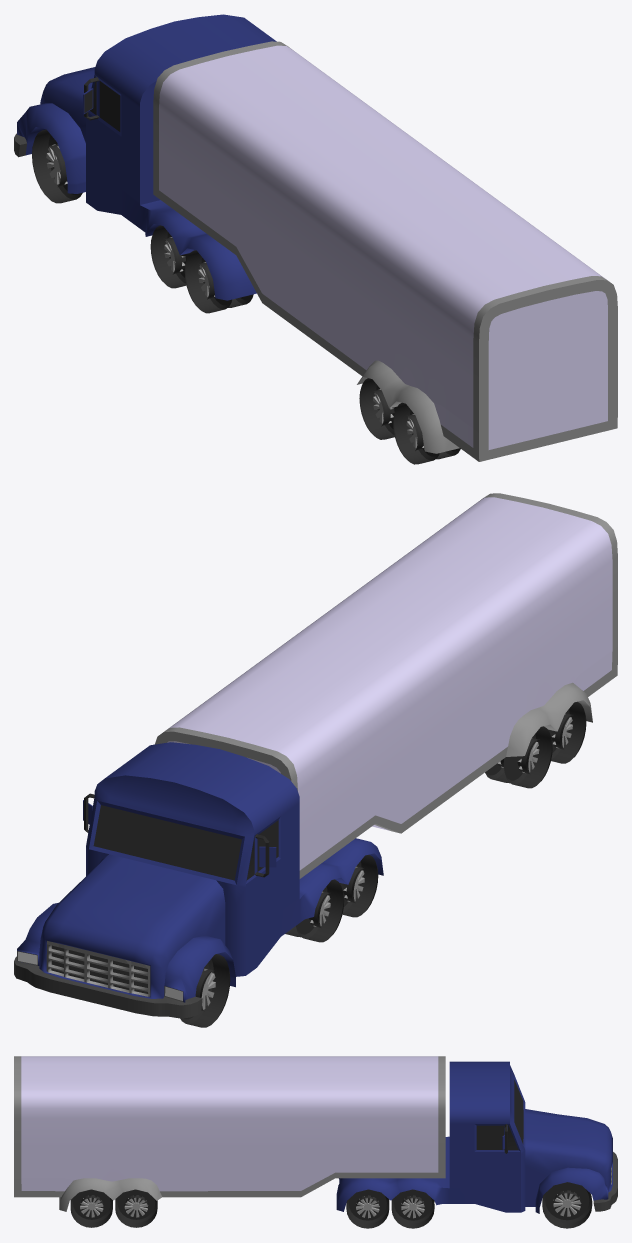
File: semiTruck.glb
The picture shows the model from 3 angles, top to bottom: view 1: azimuth 30°, elevation 25°; view 2: azimuth 150°, elevation 25°; view 3: azimuth 270°, elevation 25°; orthographic projection. The views are drawn at different scales.
Visible parts, largest first — view 1: SemiTruckTrailer, SemiTruckFrontBody, SemiTruckTires0, SemiTruckTires2, SemiTruckTires4, SemiTruckTires1, SemiTruckTires3; view 2: SemiTruckTrailer, SemiTruckFrontBody, SemiTruckTires3, SemiTruckTires0, SemiTruckTires1, SemiTruckTires2, SemiTruckTires4; view 3: SemiTruckTrailer, SemiTruckFrontBody, SemiTruckTires0, SemiTruckTires1, SemiTruckTires2, SemiTruckTires4, SemiTruckTires3.
Part boxes in pixels (x1,y1,x2,y2): SemiTruckTrailer: (153,41,617,461); SemiTruckFrontBody: (14,14,276,300); SemiTruckTires0: (32,129,82,203); SemiTruckTires2: (184,250,253,313); SemiTruckTires4: (393,402,460,464); SemiTruckTires1: (150,225,189,288); SemiTruckTires3: (359,378,396,439); SemiTruckTrailer: (154,493,617,878); SemiTruckFrontBody: (14,742,383,1018); SemiTruckTires3: (485,726,552,788); SemiTruckTires0: (180,954,230,1027); SemiTruckTires1: (285,879,344,942); SemiTruckTires2: (339,854,378,917); SemiTruckTires4: (548,701,586,763); SemiTruckTrailer: (14,1056,445,1211); SemiTruckFrontBody: (336,1061,617,1213); SemiTruckTires0: (542,1182,592,1228); SemiTruckTires1: (391,1189,434,1228); SemiTruckTires2: (346,1189,389,1228); SemiTruckTires4: (70,1189,112,1227); SemiTruckTires3: (115,1189,157,1227).
Bounding box in the file's own units: 5.56 × 5.41 × 22.67.
